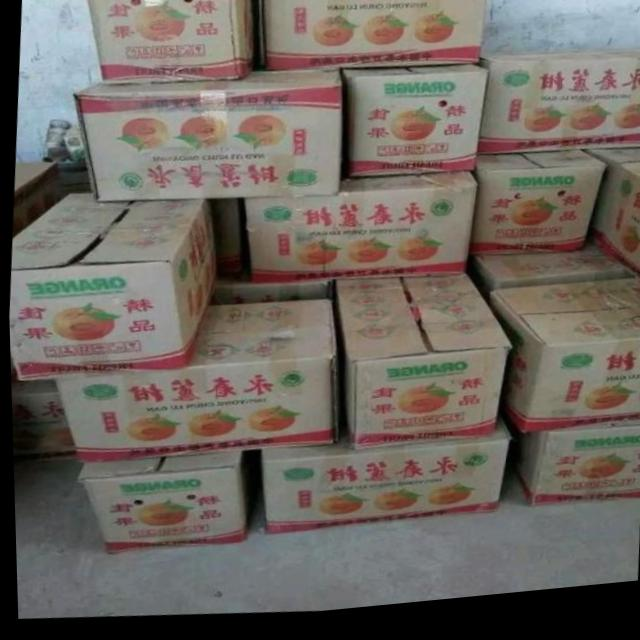box: (54, 303, 342, 462), (9, 195, 222, 380), (73, 73, 340, 202), (333, 286, 511, 459), (254, 424, 508, 536), (483, 287, 640, 449), (239, 179, 471, 286), (80, 454, 255, 555), (254, 0, 485, 75), (475, 60, 640, 161), (340, 73, 487, 182), (469, 159, 605, 262), (88, 0, 254, 84), (507, 428, 639, 514), (8, 351, 72, 463), (582, 173, 640, 291), (467, 255, 630, 296), (12, 160, 63, 238), (209, 204, 244, 280), (208, 286, 330, 307), (586, 158, 640, 174)
